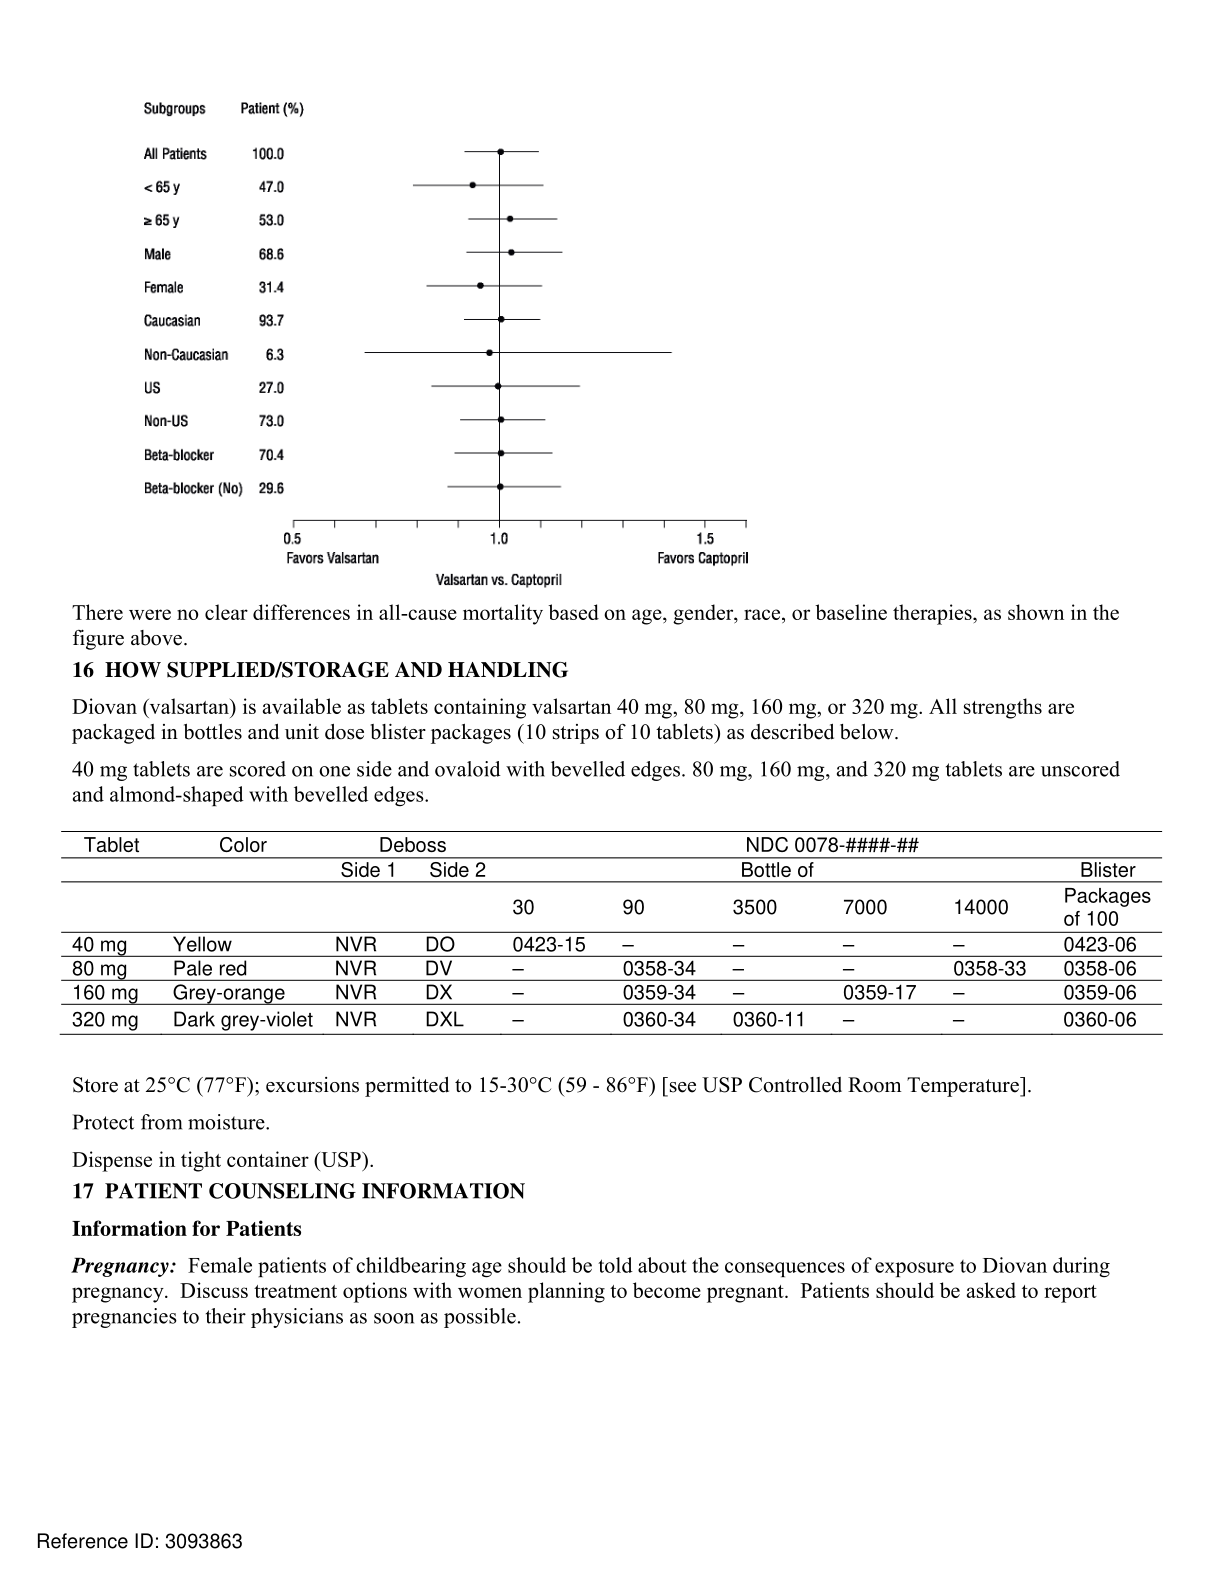nolines: (135, 96, 309, 499)
partial_lined_merged_cells: (60, 831, 1164, 1036)
